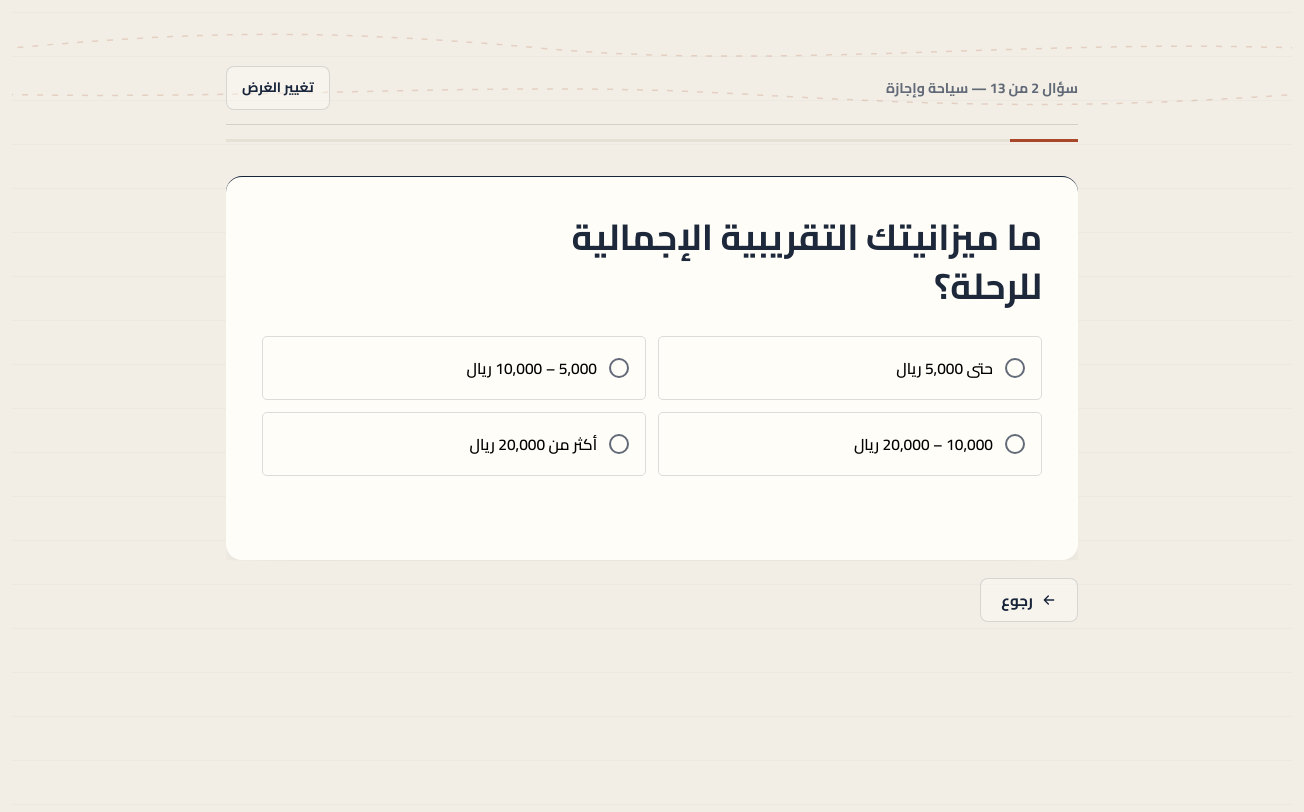
Test: the passport step sits between the questionnaire and the results › offers a real skip that goes on to the results
Earlier steps of the test are not shown.
Step 1. Click the radio button labelled "حتى 5,000 ريال" → {"x": 944, "y": 368}, box [658,336,1042,400]
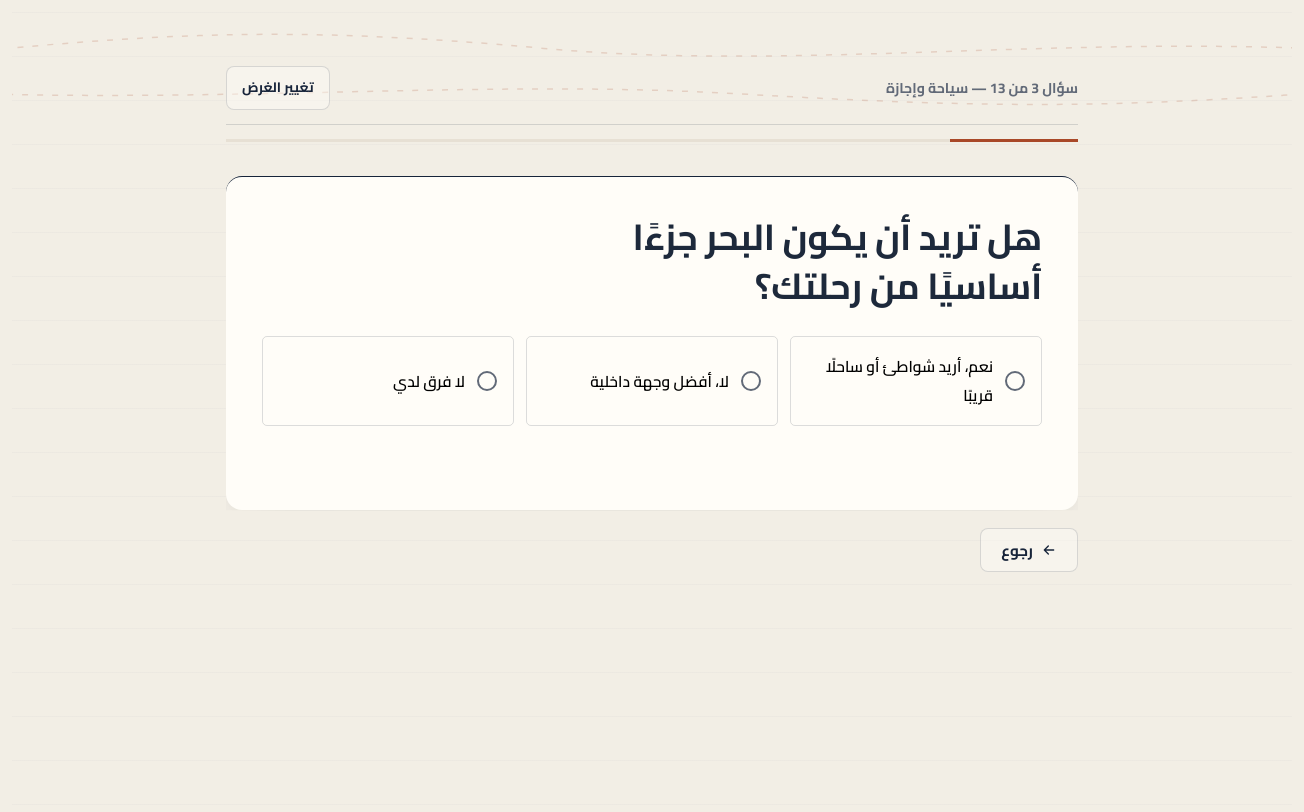
Step 2. Click the radio button labelled "نعم، أريد شواطئ أو ساحلًا قريبًا" → {"x": 916, "y": 381}, box [790,336,1042,426]
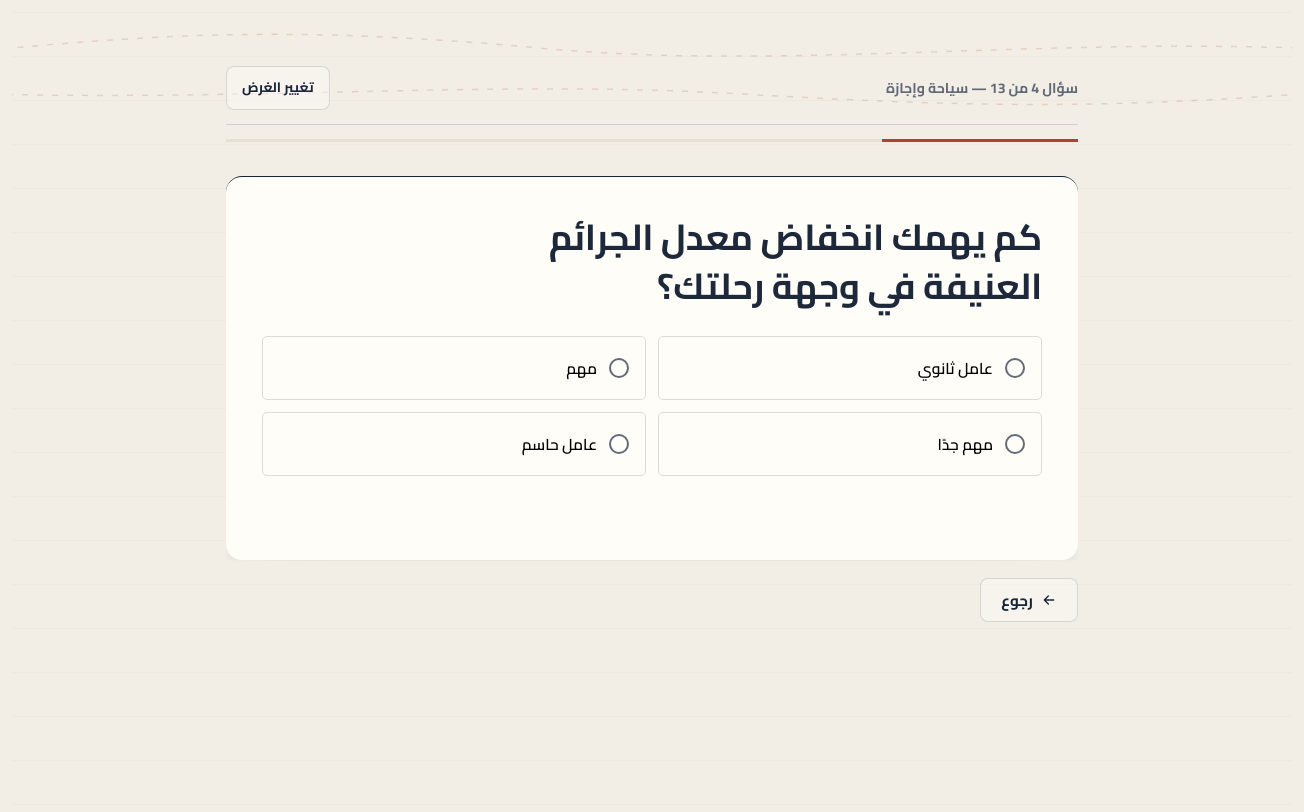
Step 3. Click the radio button labelled "عامل ثانوي" → {"x": 955, "y": 368}, box [658,336,1042,400]
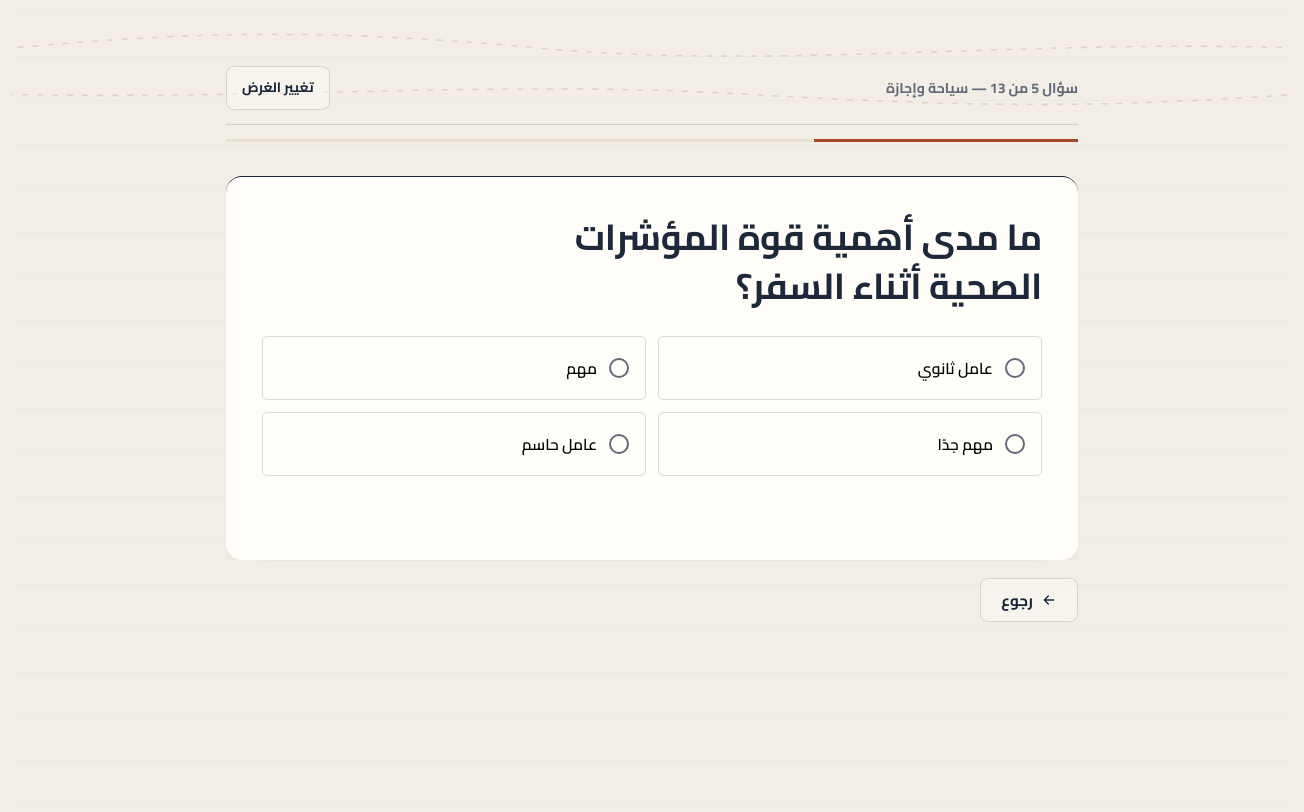
Step 4. Click the radio button labelled "عامل ثانوي" → {"x": 955, "y": 368}, box [658,336,1042,400]
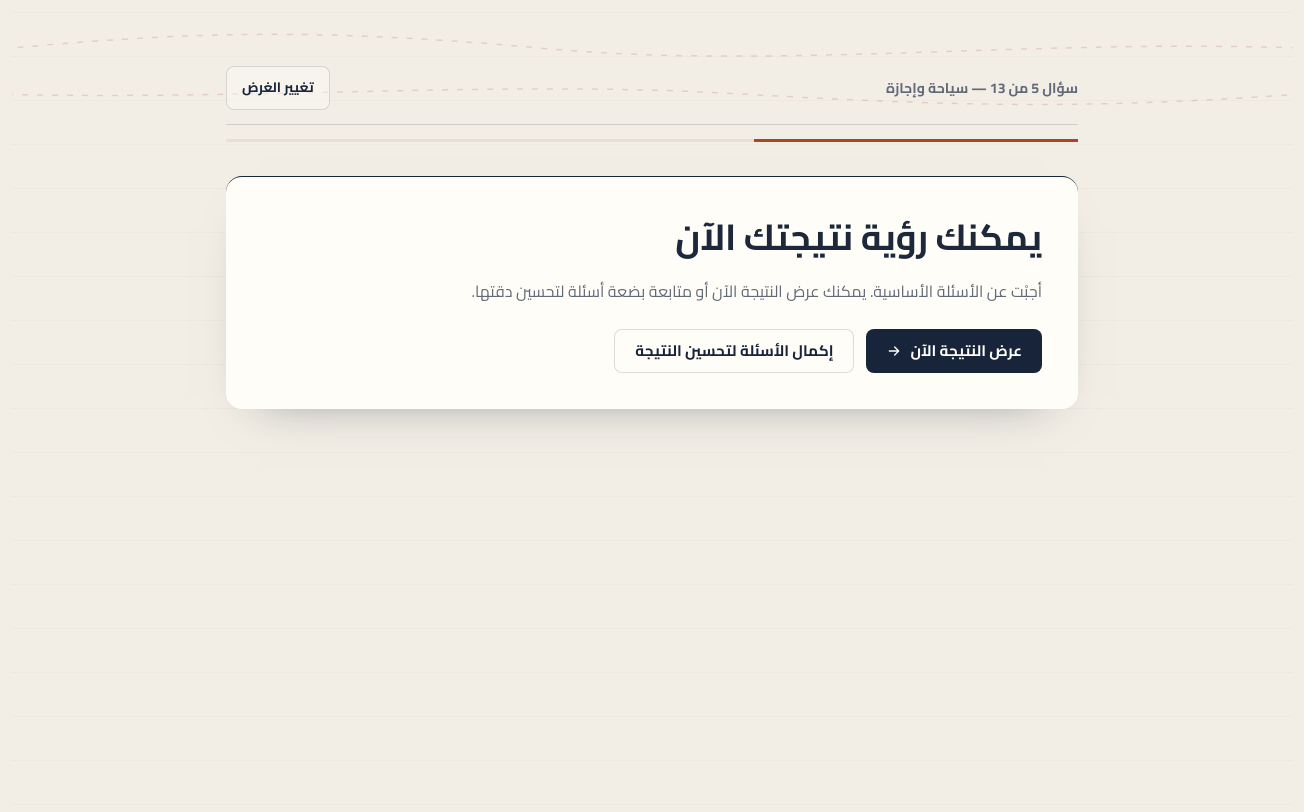
Step 5. Click the button "عرض النتيجة الآن" → {"x": 954, "y": 351}, box [866,329,1042,373]
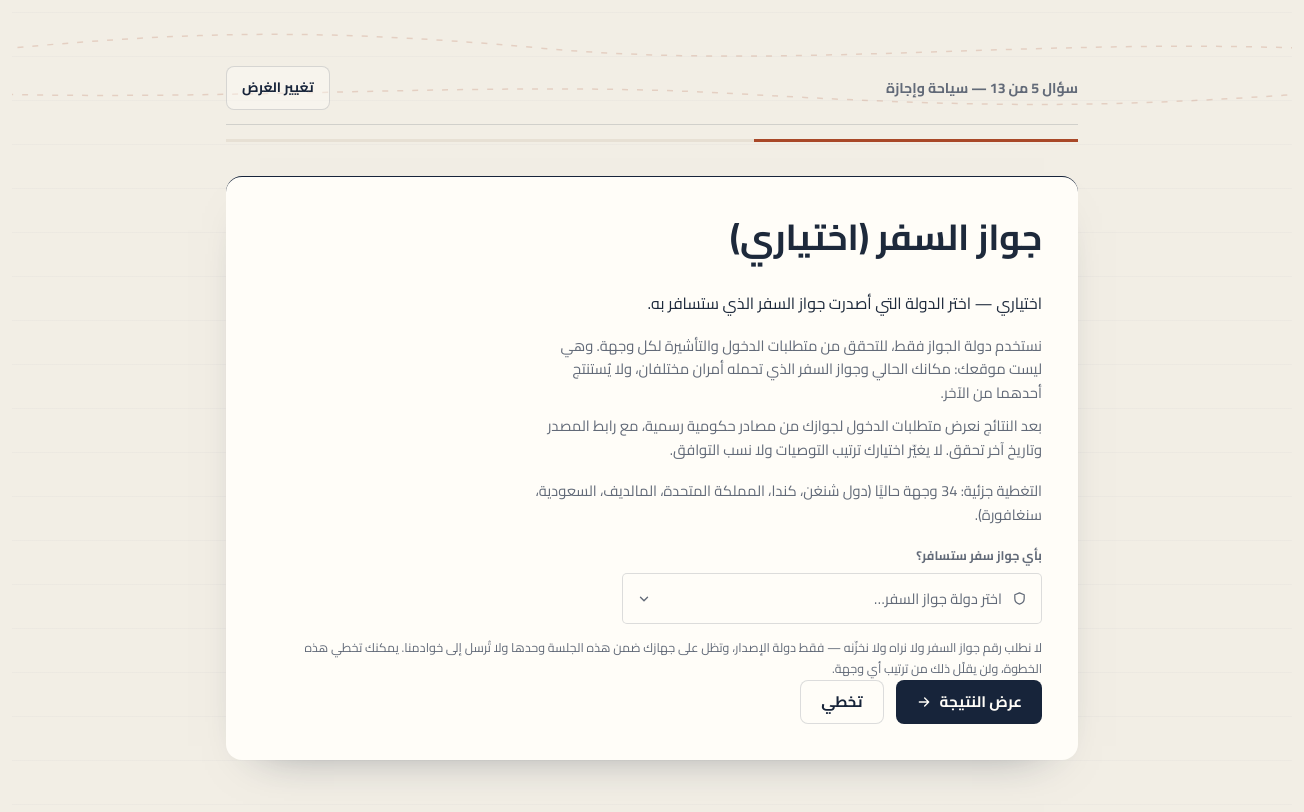
Check: the heading "جواز السفر (اختياري)" is shown, box [730,203,1042,271]
Step 6. Click the button "تخطي" → {"x": 842, "y": 702}, box [800,680,884,724]
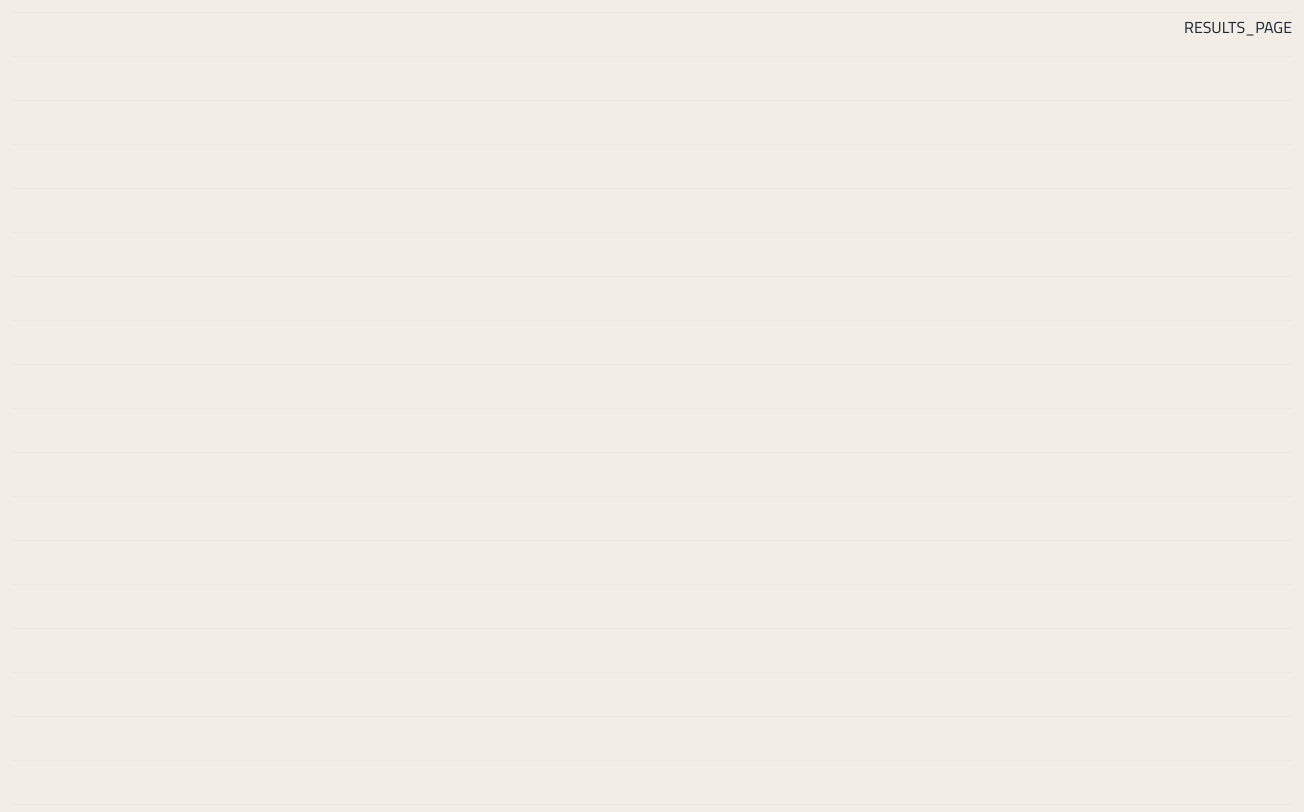
Check: the text "RESULTS_PAGE" is shown, box [1184,12,1292,42]
